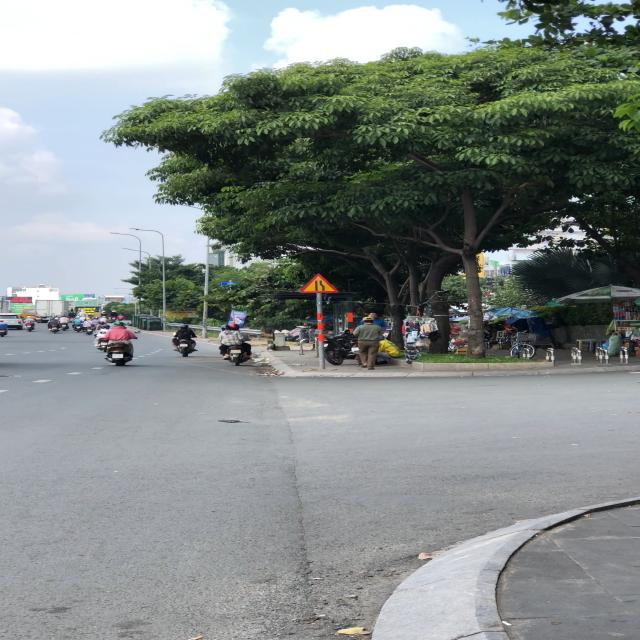Bien bao duong bi thu hep: (297, 271, 343, 294)
